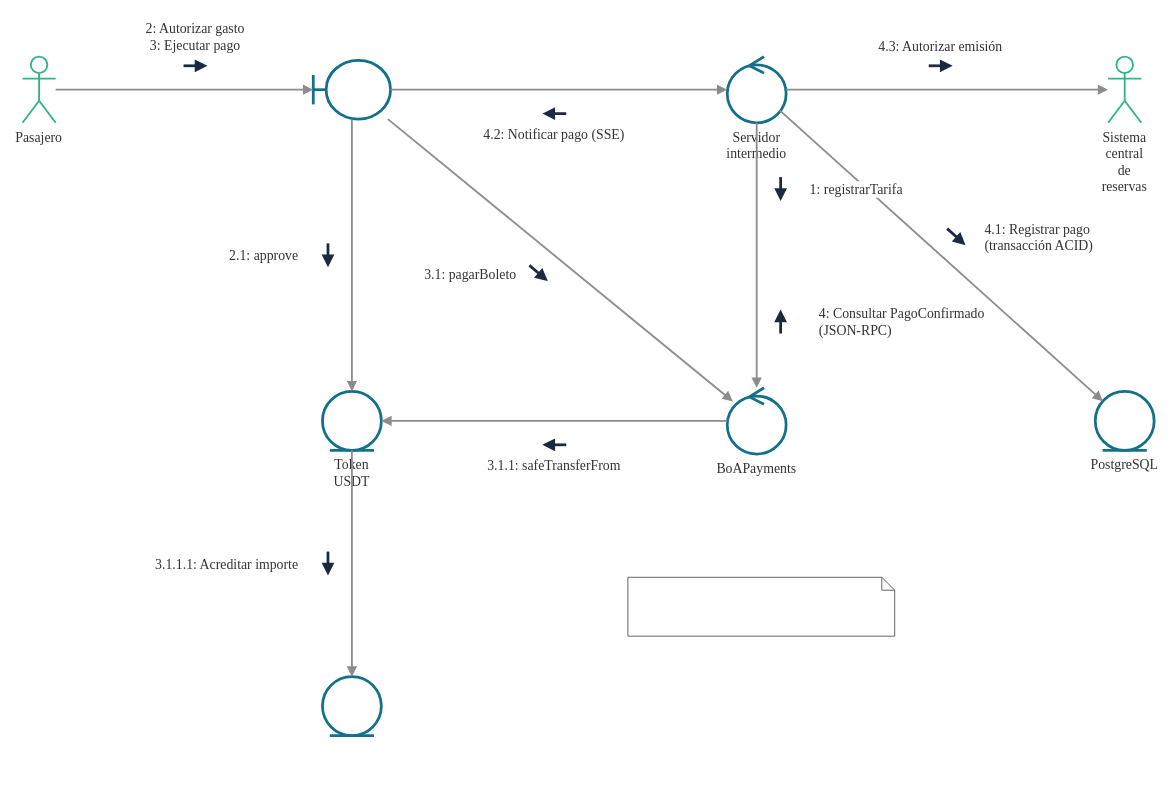
The diagram is 1174 pixels wide and 790 high, and some of its shapes have lost their labels. The box of each missing label's shape, as (x1, y1, x2, y2) in pixels:
3.1.2: BoAPayments emite el evento PagoConfirmado: (627, 576, 895, 636)
Billetera recaudadora: (321, 675, 382, 736)
Interfaz de pago: (311, 58, 391, 120)
